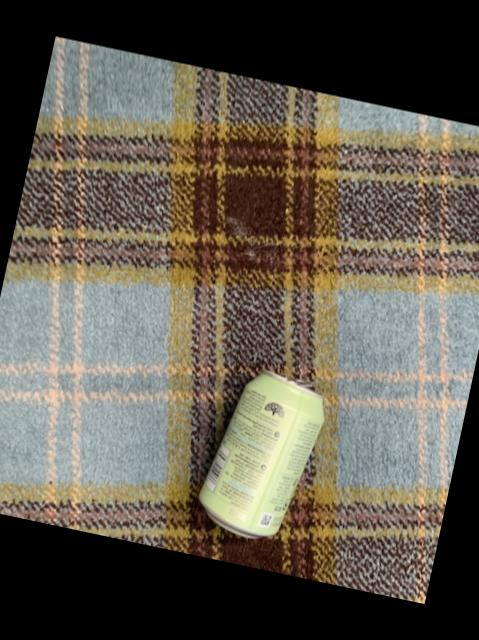metal: (200, 372, 324, 539)
